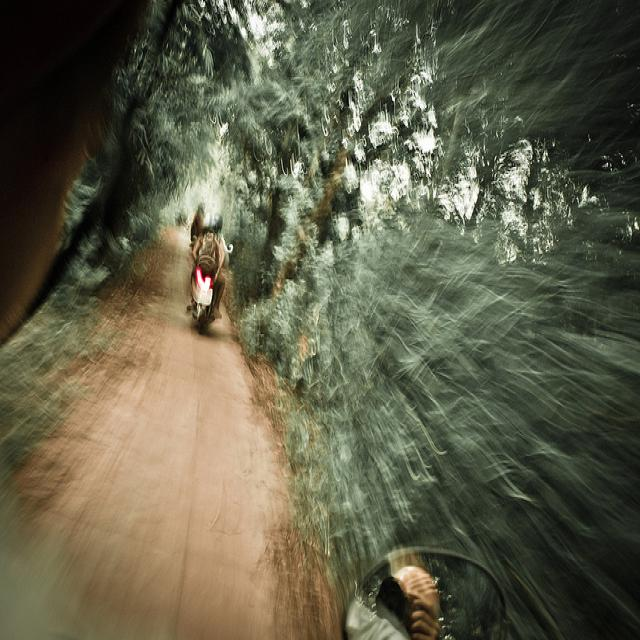motor: (186, 258, 227, 334)
